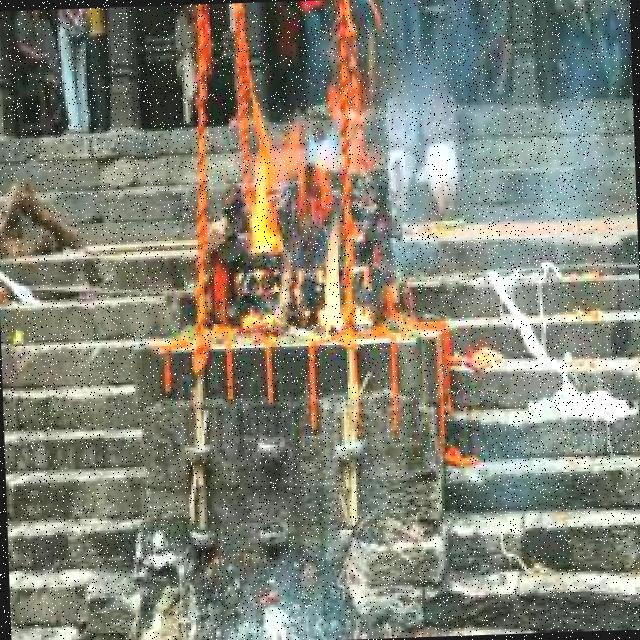Fire: (241, 111, 361, 342)
